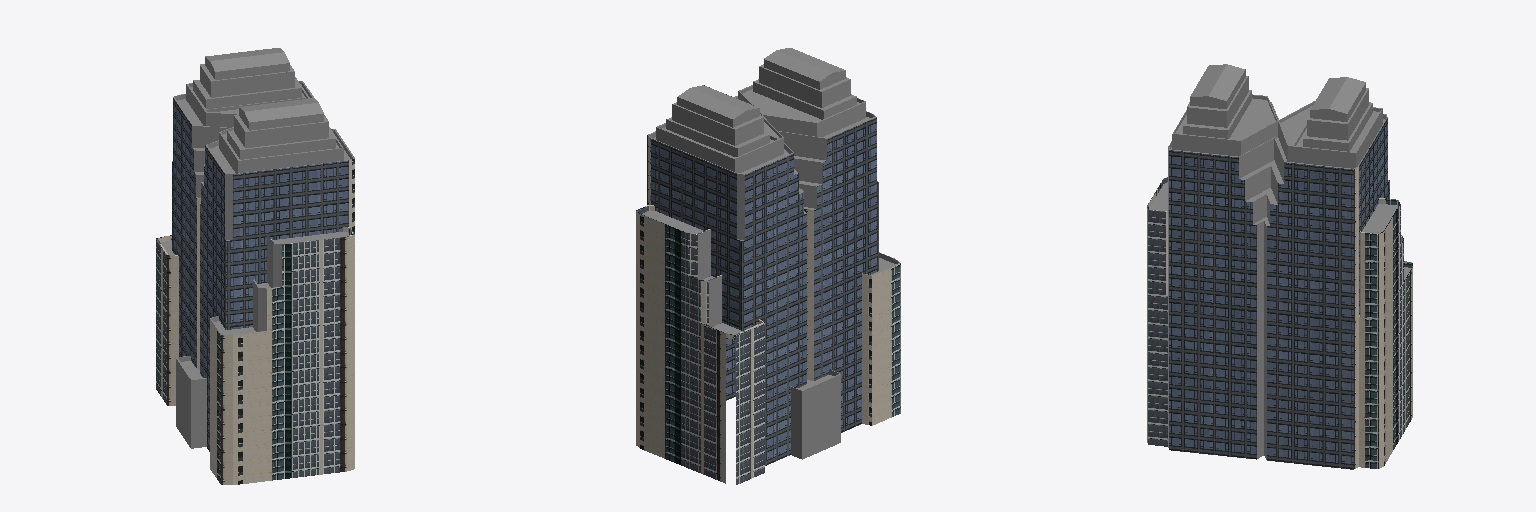
The picture shows the model from 3 angles: view 1: azimuth 30°, elevation 25°; view 2: azimuth 150°, elevation 25°; view 3: azimuth 270°, elevation 25°; orthographic projection.
Parts seen in each view (by area): view 1: JZ_JX_627; view 2: JZ_JX_627; view 3: JZ_JX_627.
Boxes of the visible parts, box(x1,y1,x2,y2) form: JZ_JX_627: box(156, 48, 354, 484); JZ_JX_627: box(636, 48, 900, 484); JZ_JX_627: box(1147, 64, 1412, 469).
Bounding box in the file's own units: 3035 × 5976 × 4166.
4 materials, 2 textured.